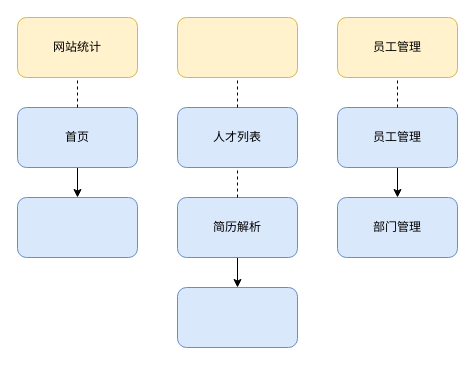
The diagram is 475 pixels wide and 365 high, and some of its shapes have lost their labels. The centre of each missing label's shape, as x and y in pixels:
人才管理: the point at 237,47
数据统计: the point at 77,227
项目管理: the point at 237,317
